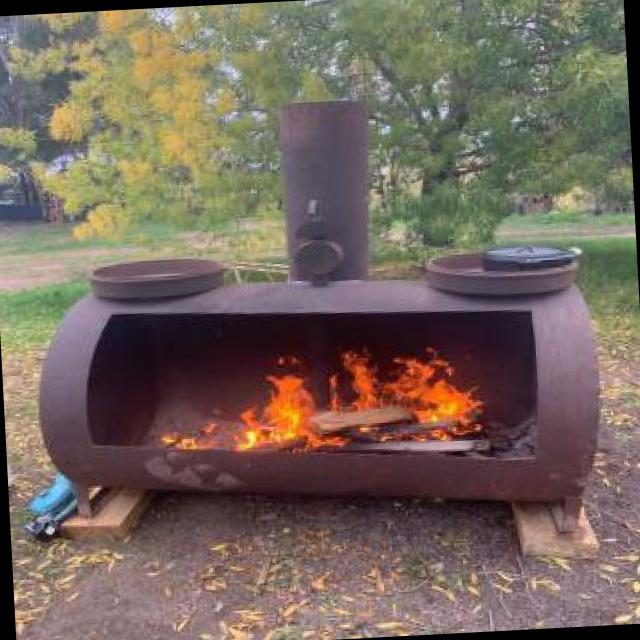Fire: (188, 344, 511, 468)
